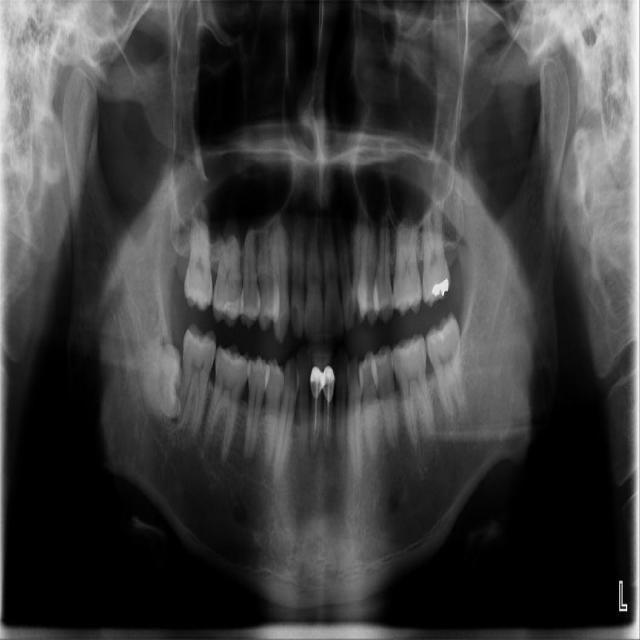52: (418, 257, 454, 309), (212, 276, 244, 328), (309, 341, 336, 402)
73: (310, 387, 323, 454), (322, 390, 334, 452), (606, 567, 614, 585)
BioHorizons Implant: (421, 194, 454, 308)
Blue Sky Bio Implant: (422, 308, 467, 424)
Caries: (183, 200, 213, 313)
Implant: (175, 320, 219, 440)
Keystone Dental Implant: (134, 341, 189, 422)
